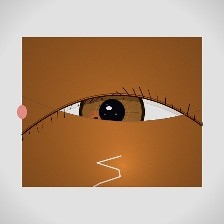foreign_body_visible: (81, 108, 110, 131)
